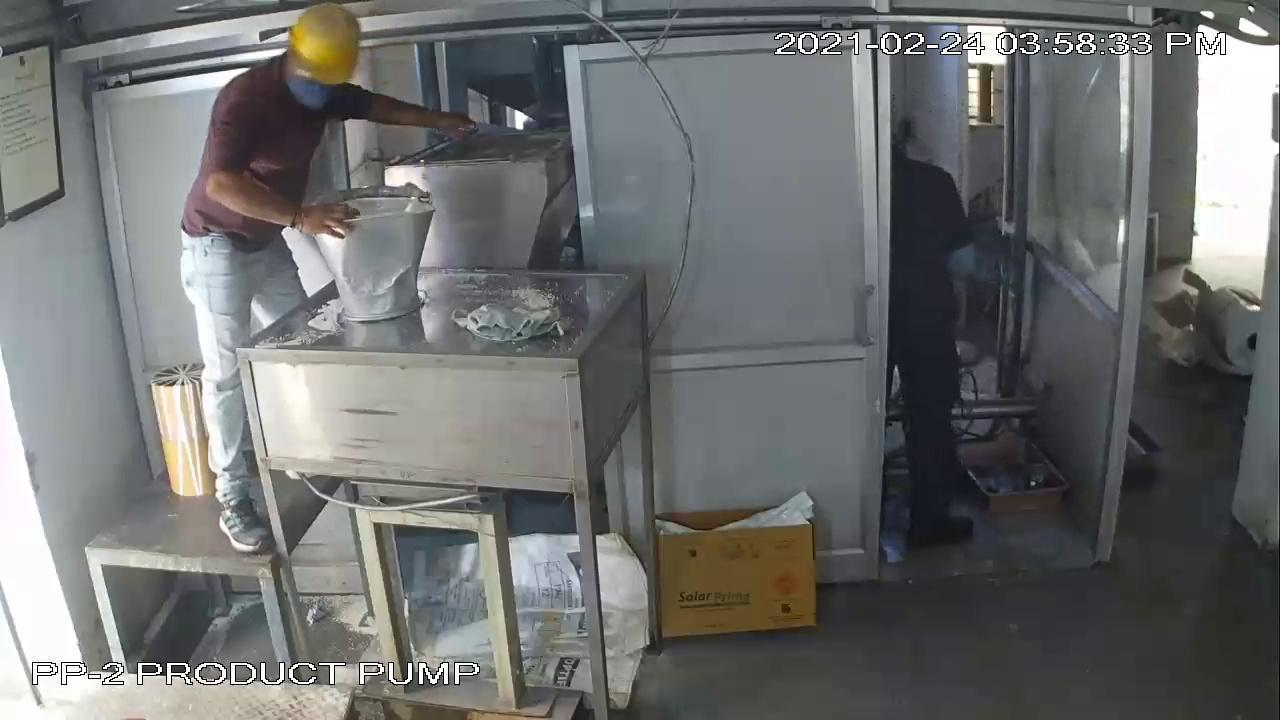helmet: (279, 1, 365, 89)
